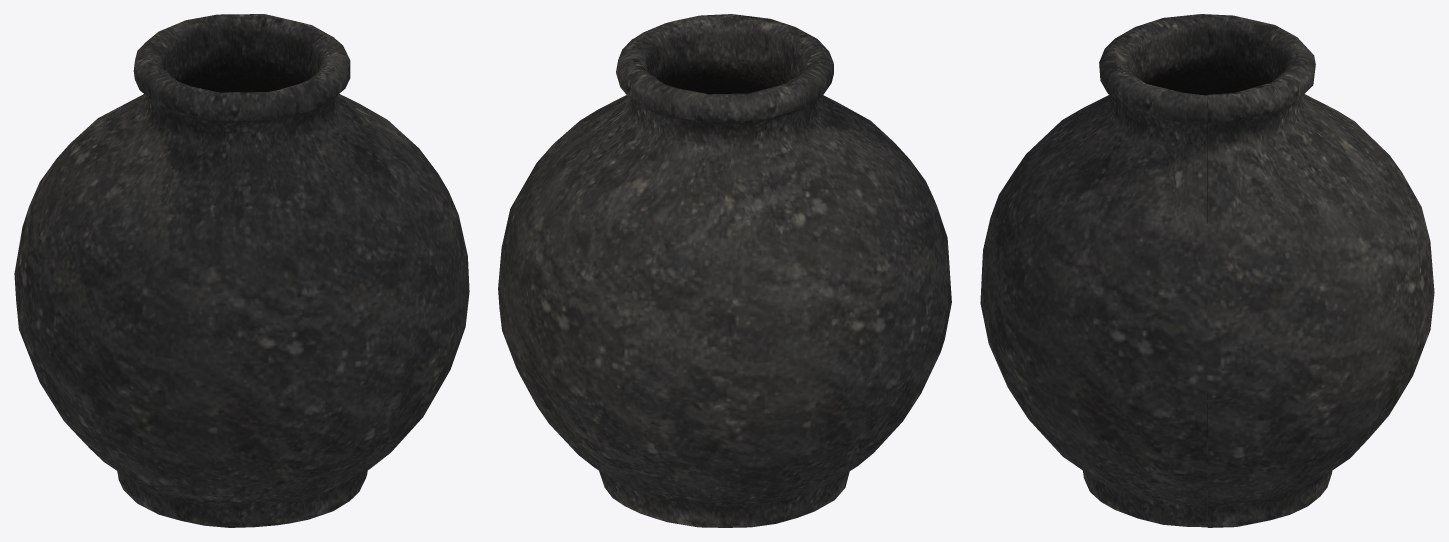
Rendered from boop-vase-large-black-baked.glb.
3 renders of one model, left to right at view 1: azimuth 30°, elevation 25°; view 2: azimuth 150°, elevation 25°; view 3: azimuth 270°, elevation 25°, orthographic.
Parts seen in each view (by area): view 1: vase-large-black; view 2: vase-large-black; view 3: vase-large-black.
Boxes of the visible parts, x1,y1,x2,y2 form: vase-large-black: (14, 14, 469, 527); vase-large-black: (498, 14, 951, 527); vase-large-black: (980, 14, 1434, 527).
Size of the model in its own units: 0.0322 by 0.033 by 0.0322.
1 material, 1 textured.
